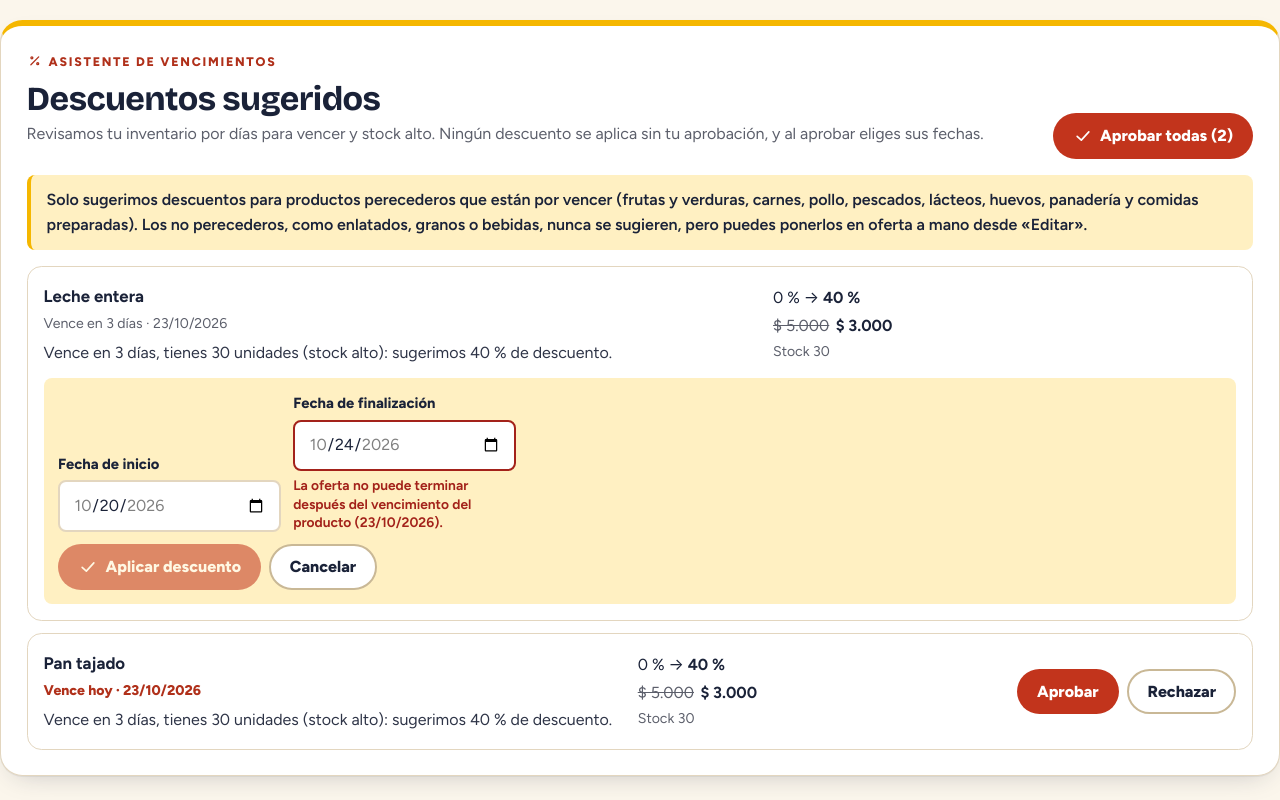
Scenario: SuggestionsPanelComponent › does not let the range start in the past or end after the expiration date
The image size is (1280, 800).
Expected: the submit button is disabled, top-left (58, 544), bottom-right (262, 590)
Click the button with class "button-light" showing "Cancelar": (323, 567) top-left (270, 544), bottom-right (377, 590)
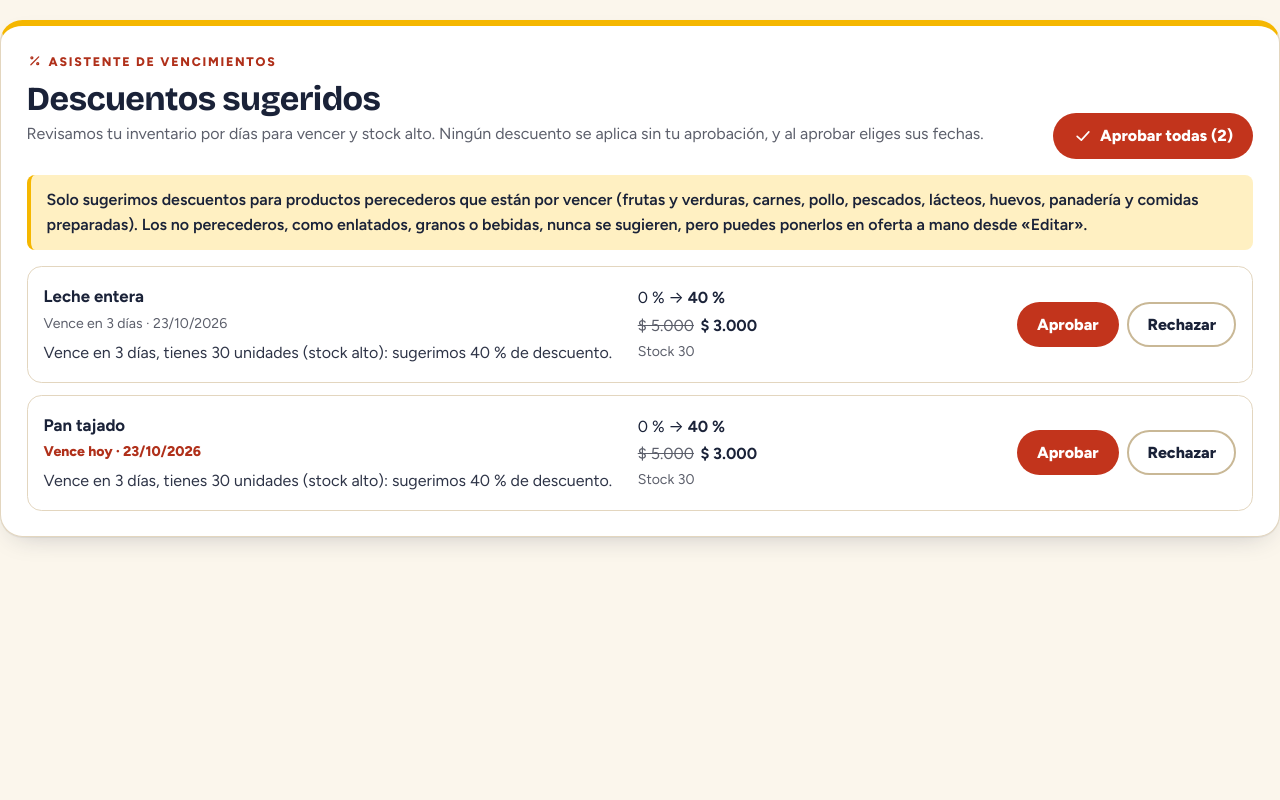
Expected: the form with class "range" is gone
